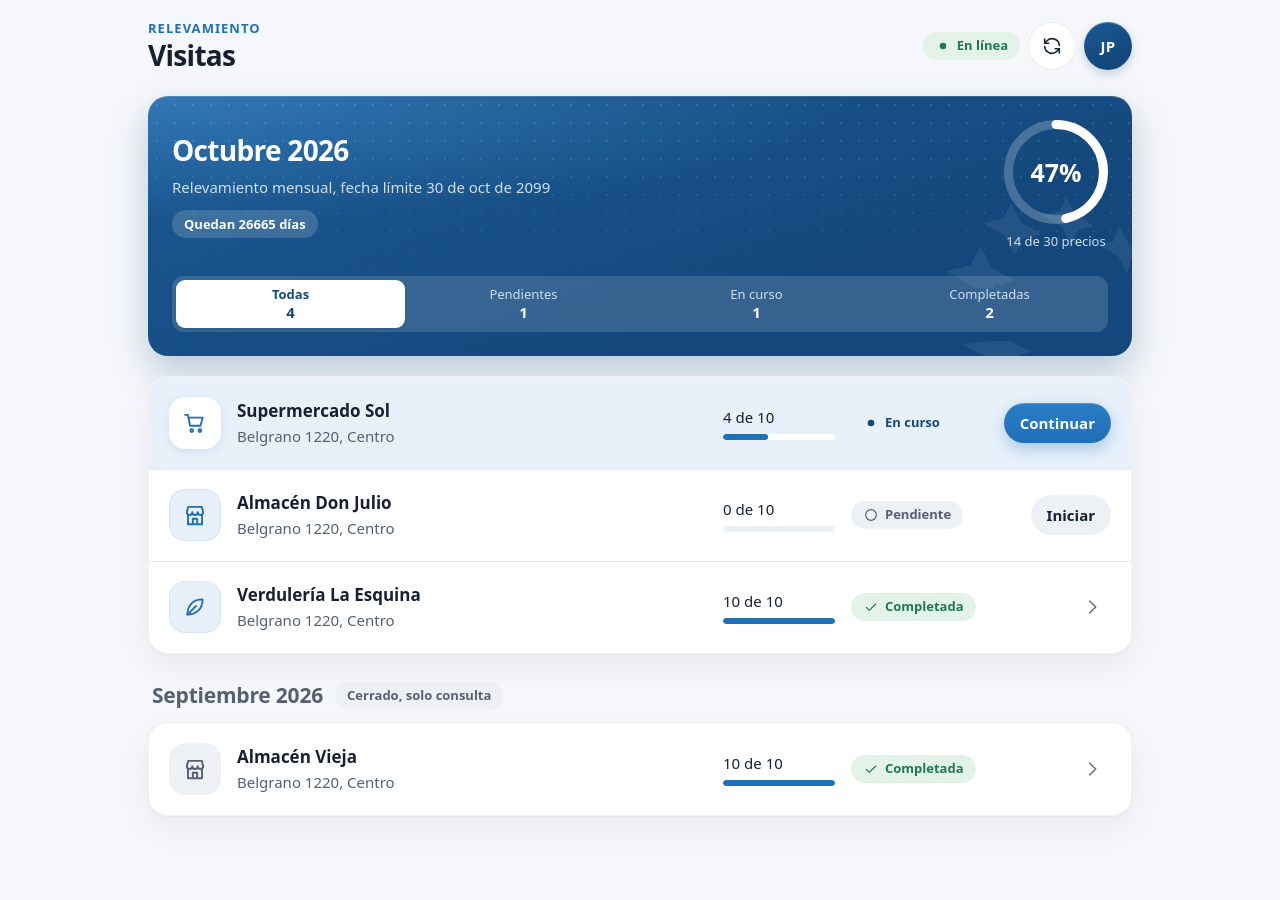
Test: VisitasPage › filters by estado from the band
The image size is (1280, 900).
Click the button "Completadas 2".
click(990, 304)  # box [875,280,1104,328]
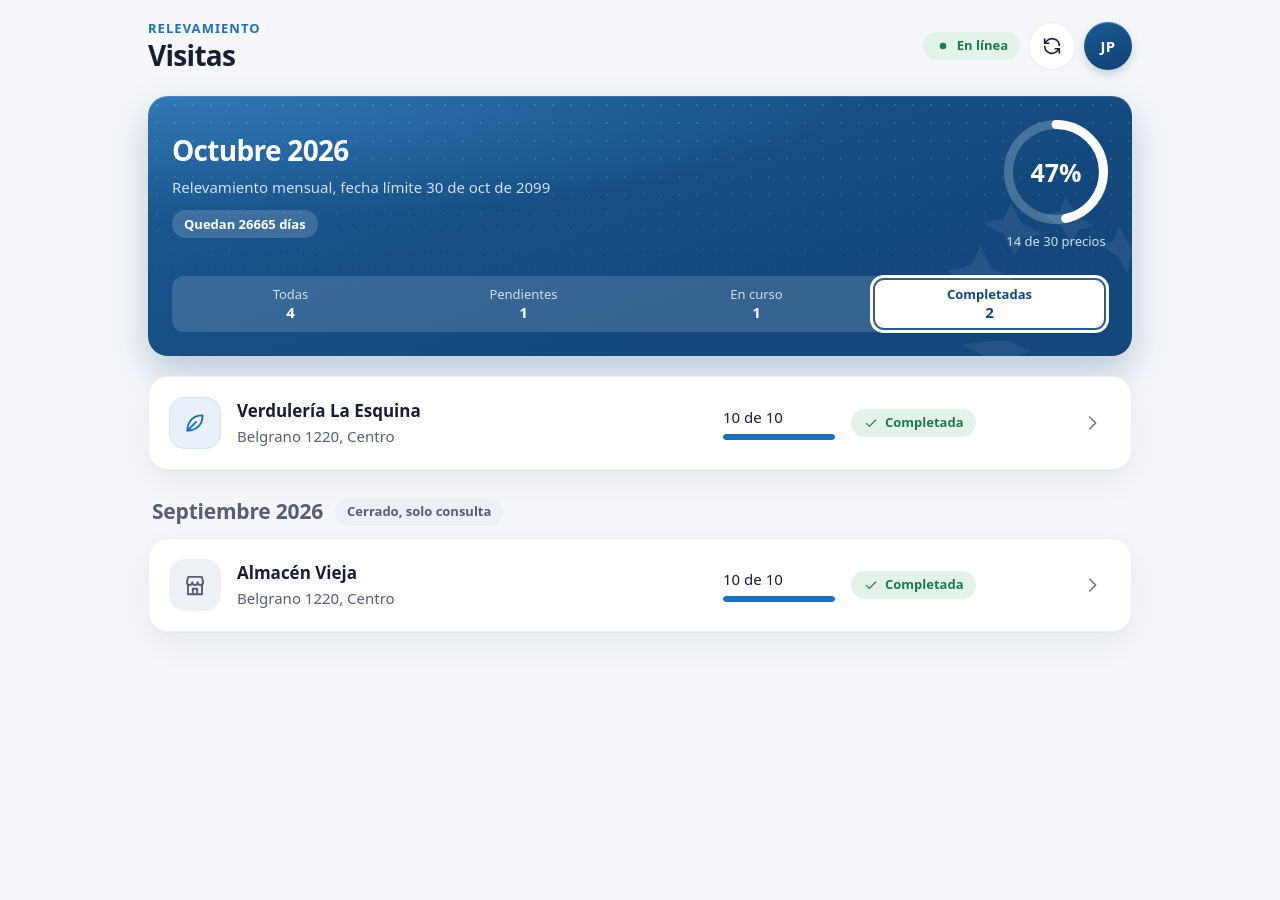
Expected: the text "Verdulería La Esquina" is shown, [237,399,421,422]
Expected: the link "Supermercado Sol" is gone
